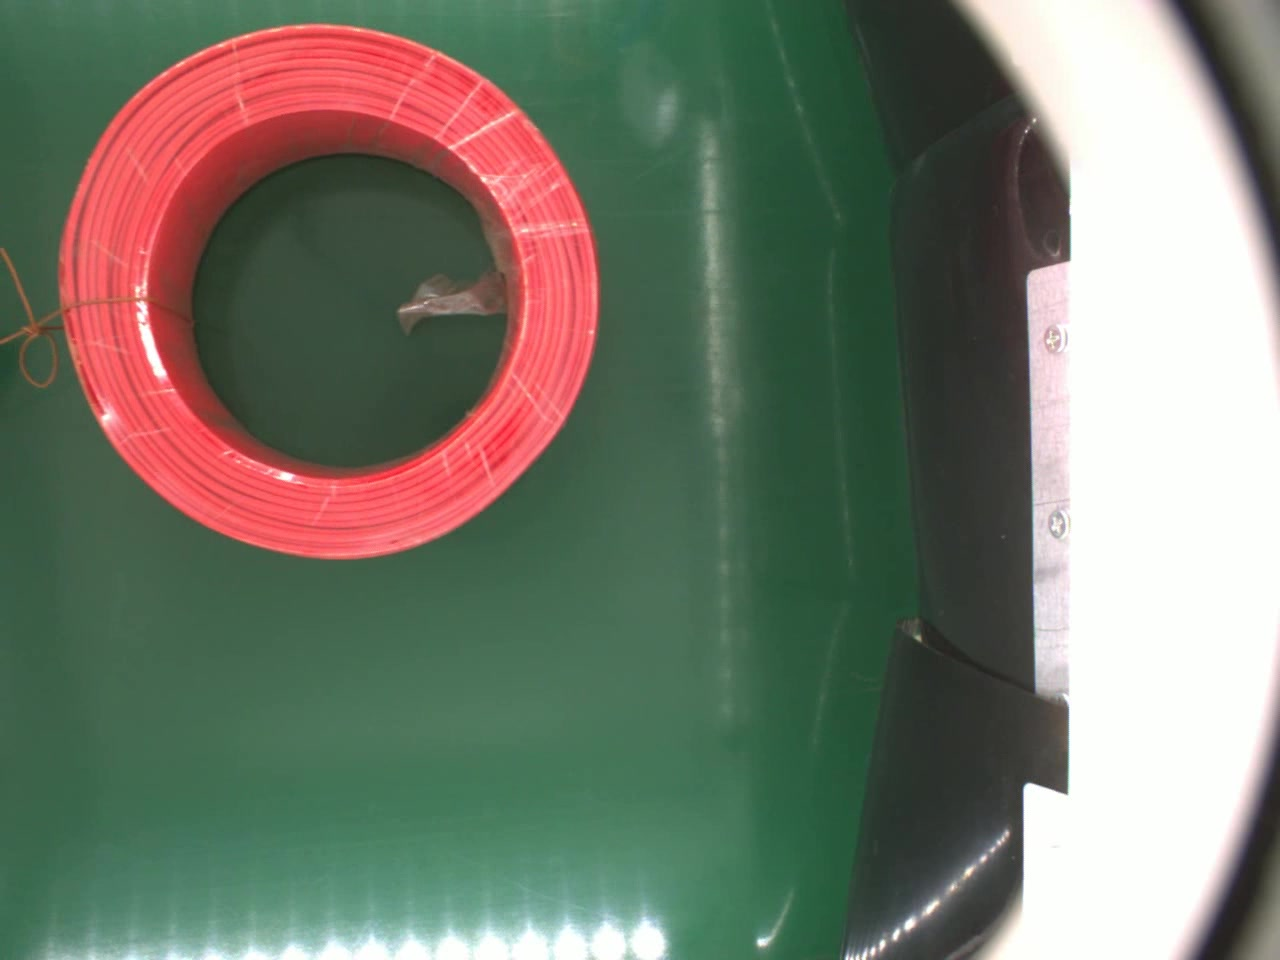red: (59, 25, 599, 563)
